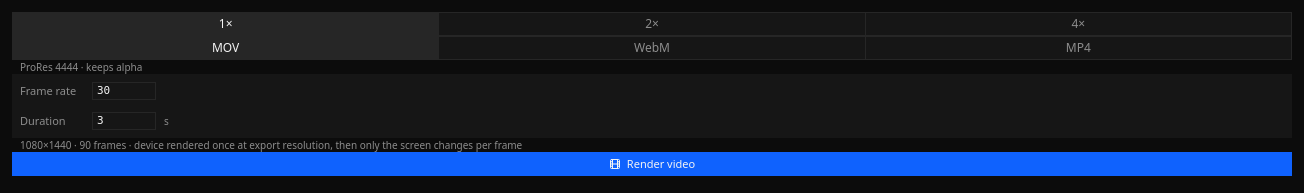
Test: VideoExport › cảnh báo mp4 mất alpha TRƯỚC khi render, không phải sau
Click the radio button labelled "MP4" at (1078, 48), box [866,37,1291,59]
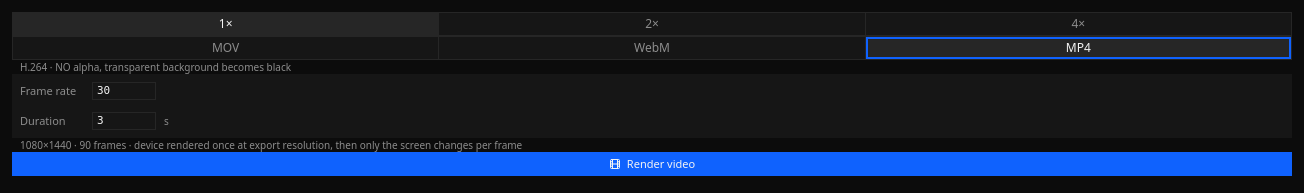
Expected: the text "H.264 · NO alpha, transparent background becomes black" is shown, [20,60,291,74]
Click the radio button labelled "MOV" at (226, 48), box [13,37,439,59]
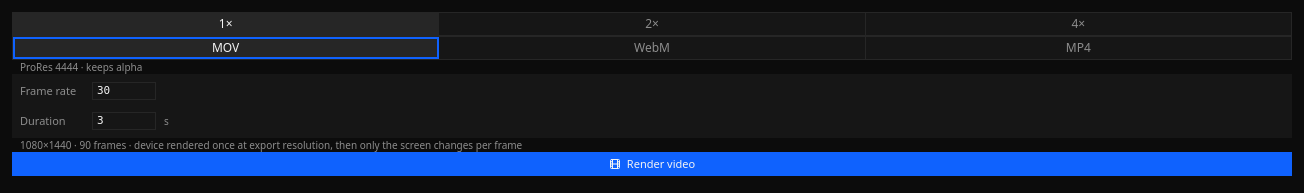
Expected: the text "ProRes 4444 · keeps alpha" is shown, [20,60,142,74]
